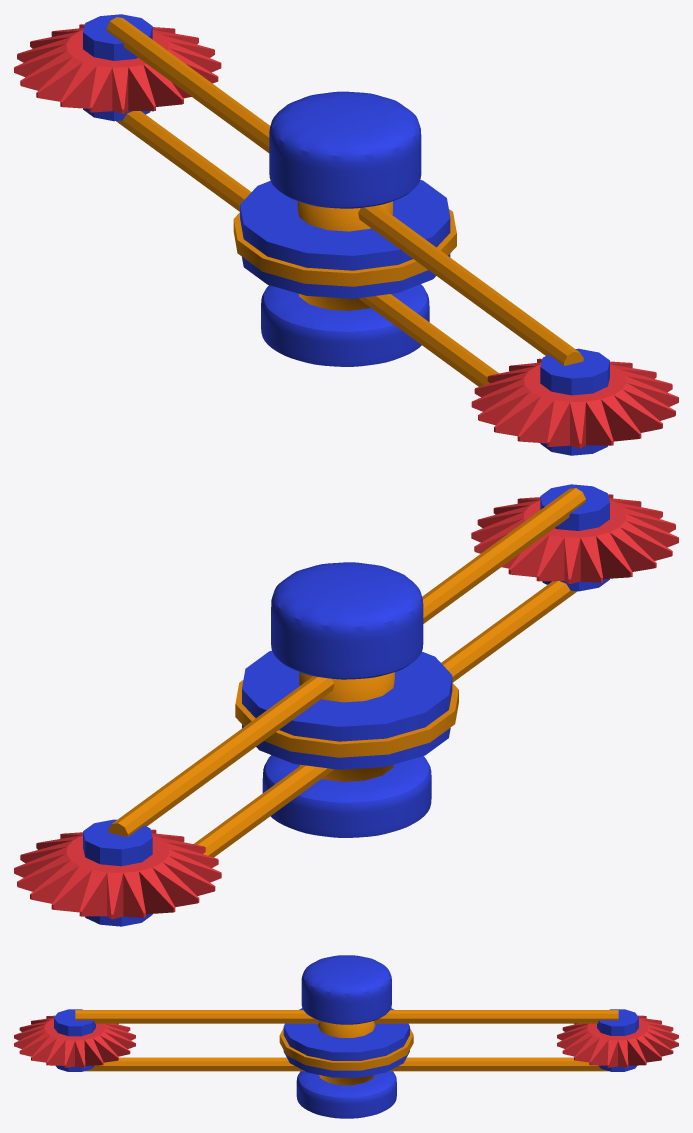
Rendered from engel9.fbx.
3 views of the same model, one above another, from view 1: azimuth 30°, elevation 25°; view 2: azimuth 150°, elevation 25°; view 3: azimuth 270°, elevation 25° (orthographic). The views are drawn at different scales.
Visible parts, largest first — view 1: Cylinder.008, Cylinder, Cylinder.016, Cylinder.011, Cylinder.009, Cylinder.010; view 2: Cylinder.008, Cylinder, Cylinder.011, Cylinder.016, Cylinder.009, Cylinder.010; view 3: Cylinder, Cylinder.008, Cylinder.016, Cylinder.011, Cylinder.009, Cylinder.010.
Boxes of the visible parts, x1,y1,x2,y2 form: Cylinder.008: (261, 91, 429, 366); Cylinder: (106, 17, 583, 386); Cylinder.016: (471, 348, 678, 455); Cylinder.011: (14, 14, 221, 121); Cylinder.009: (240, 180, 450, 298); Cylinder.010: (233, 209, 456, 286); Cylinder.008: (262, 562, 431, 837); Cylinder: (108, 488, 585, 857); Cylinder.011: (14, 819, 221, 926); Cylinder.016: (471, 484, 678, 591); Cylinder.009: (242, 650, 452, 769); Cylinder.010: (235, 680, 458, 757); Cylinder: (75, 1010, 618, 1085); Cylinder.008: (296, 955, 396, 1118); Cylinder.016: (14, 1009, 135, 1071); Cylinder.011: (557, 1009, 678, 1071); Cylinder.009: (283, 1008, 409, 1077); Cylinder.010: (279, 1028, 413, 1070).
Size of the model in its own units: 175 by 193 by 893.
